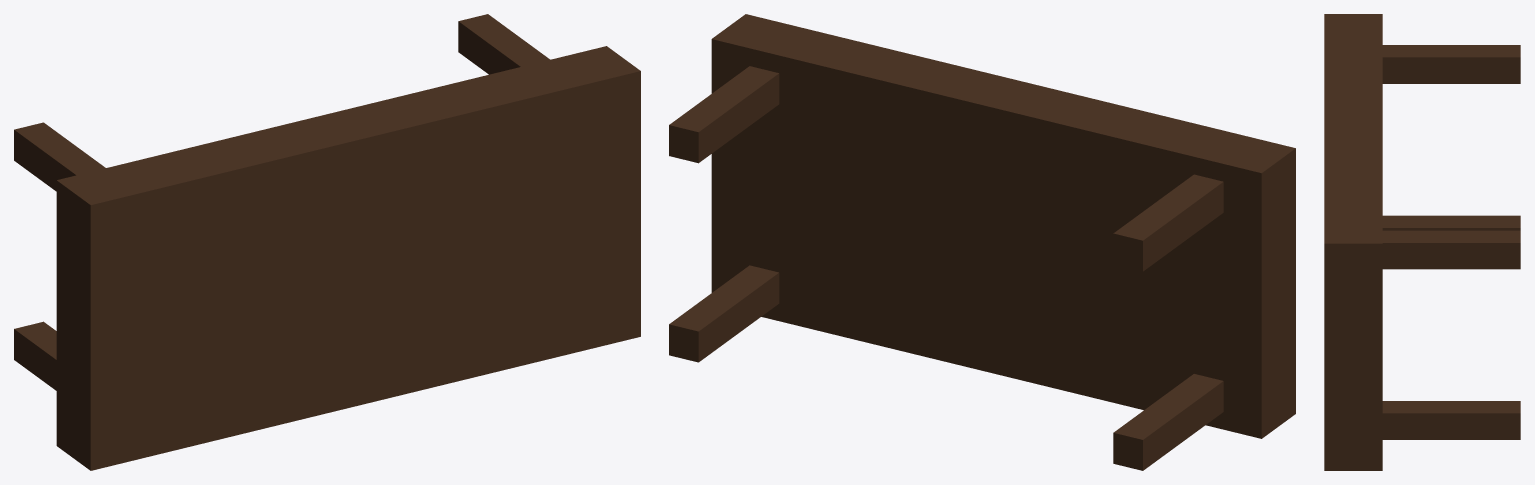
File: SM_AnduinDockPier.obj
3 views of the same model, side by side, from view 1: azimuth 30°, elevation 25°; view 2: azimuth 150°, elevation 25°; view 3: azimuth 270°, elevation 25° (orthographic). The views are drawn at different scales.
Parts seen in each view (by area): view 1: SM_AnduinDockPier; view 2: SM_AnduinDockPier; view 3: SM_AnduinDockPier.
Boxes of the visible parts, left/top/right/bottom form: SM_AnduinDockPier: left=14, top=14, right=640, bottom=470; SM_AnduinDockPier: left=669, top=14, right=1295, bottom=470; SM_AnduinDockPier: left=1324, top=14, right=1520, bottom=470.
Bounding box in the file's own units: 260 × 120 × 94.
